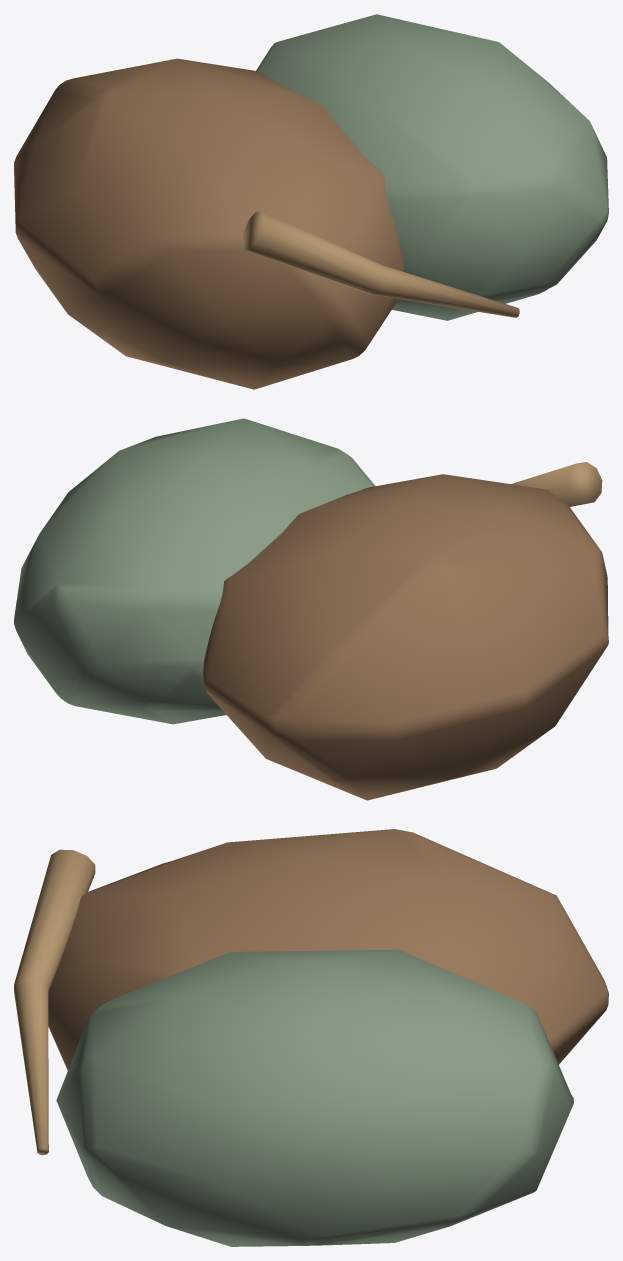
The model's file is rainforest_edge.glb.
The picture shows the model from 3 angles, top to bottom: view 1: azimuth 30°, elevation 25°; view 2: azimuth 150°, elevation 25°; view 3: azimuth 270°, elevation 25°; orthographic projection. The views are drawn at different scales.
Parts seen in each view (by area): view 1: Batched V2 rainforest wood, Batched V2 rainforest stone, Batched V2 rainforest pale bark; view 2: Batched V2 rainforest wood, Batched V2 rainforest stone, Batched V2 rainforest pale bark; view 3: Batched V2 rainforest stone, Batched V2 rainforest wood, Batched V2 rainforest pale bark.
Part boxes in pixels (x1=…): Batched V2 rainforest wood: x1=14, y1=58, x2=404, y2=389; Batched V2 rainforest stone: x1=256, y1=14, x2=608, y2=320; Batched V2 rainforest pale bark: x1=241, y1=211, x2=519, y2=317; Batched V2 rainforest wood: x1=203, y1=474, x2=608, y2=800; Batched V2 rainforest stone: x1=14, y1=418, x2=375, y2=724; Batched V2 rainforest pale bark: x1=511, y1=462, x2=602, y2=506; Batched V2 rainforest stone: x1=56, y1=949, x2=573, y2=1246; Batched V2 rainforest wood: x1=48, y1=829, x2=608, y2=1070; Batched V2 rainforest pale bark: x1=14, y1=849, x2=95, y2=1155.
Size of the model in its own units: 2.21 by 1.04 by 1.98.
